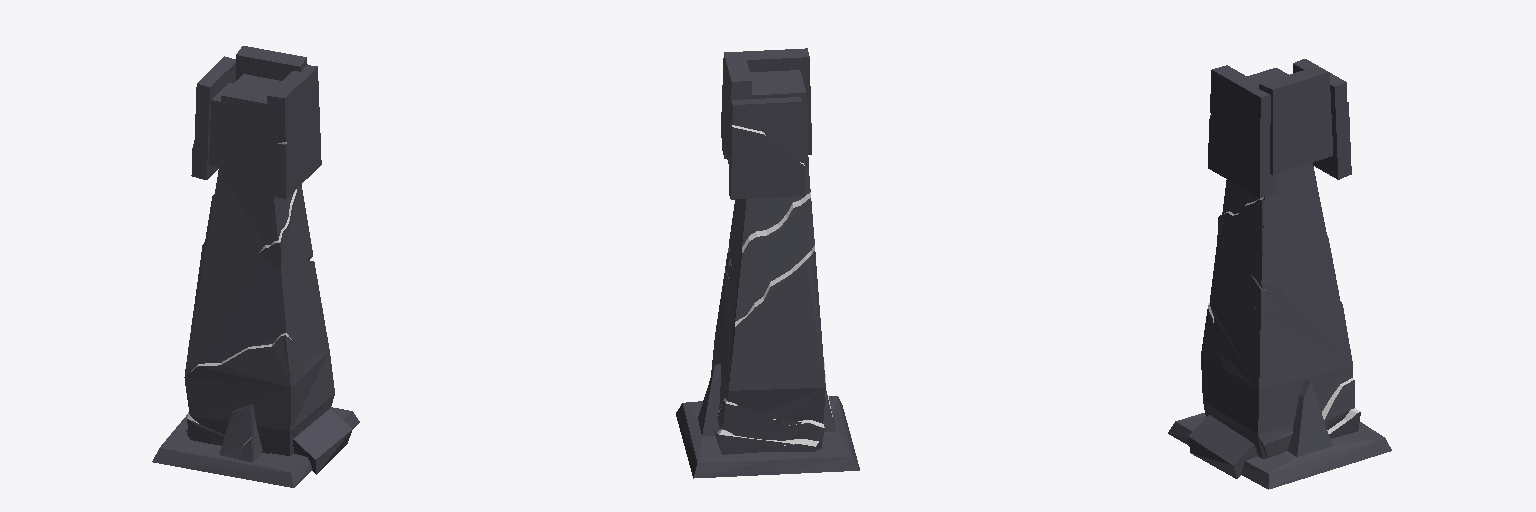
Rendered from portalPartTestobj.obj.
The picture shows the model from 3 angles: view 1: azimuth 30°, elevation 25°; view 2: azimuth 150°, elevation 25°; view 3: azimuth 270°, elevation 25°; orthographic projection.
Visible parts, largest first — view 1: Cubo.036; view 2: Cubo.036; view 3: Cubo.036.
Part boxes in pixels (left/top/right/bottom): Cubo.036: left=152, top=46, right=359, bottom=487; Cubo.036: left=676, top=48, right=859, bottom=478; Cubo.036: left=1168, top=59, right=1391, bottom=489.
Bounding box in the file's own units: 3.09 × 5.71 × 3.07.